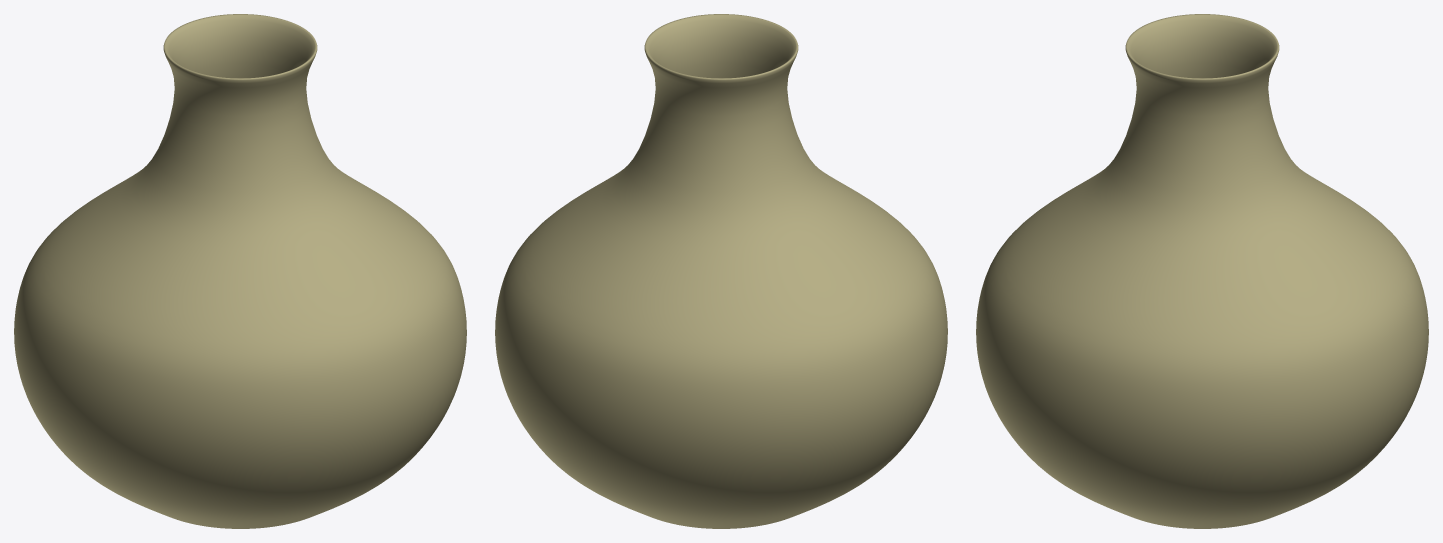
The model's file is pot_shorter.fbx.
3 views of the same model, side by side, from view 1: azimuth 30°, elevation 25°; view 2: azimuth 150°, elevation 25°; view 3: azimuth 270°, elevation 25° (orthographic).
Visible parts, largest first — view 1: Pot_2; view 2: Pot_2; view 3: Pot_2.
Part boxes in pixels (x1=…): Pot_2: x1=14, y1=14, x2=466, y2=528; Pot_2: x1=495, y1=14, x2=947, y2=528; Pot_2: x1=976, y1=14, x2=1428, y2=528.
Bounding box in the file's own units: 115 × 123 × 115.
